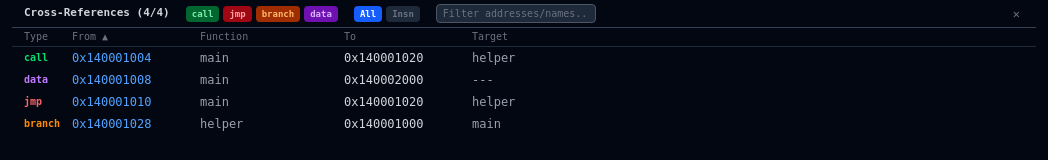
Test: XrefPanel › accessible names › names the direction toggle and the 'To' column differently
The image size is (1048, 160).
Click the button "Insn" at [403, 14], box [386,6,420,22]
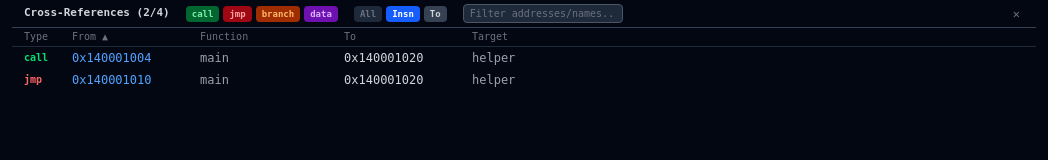
Check: the button with aria-label "Reference direction:" reads "To", box [424,6,447,22]
